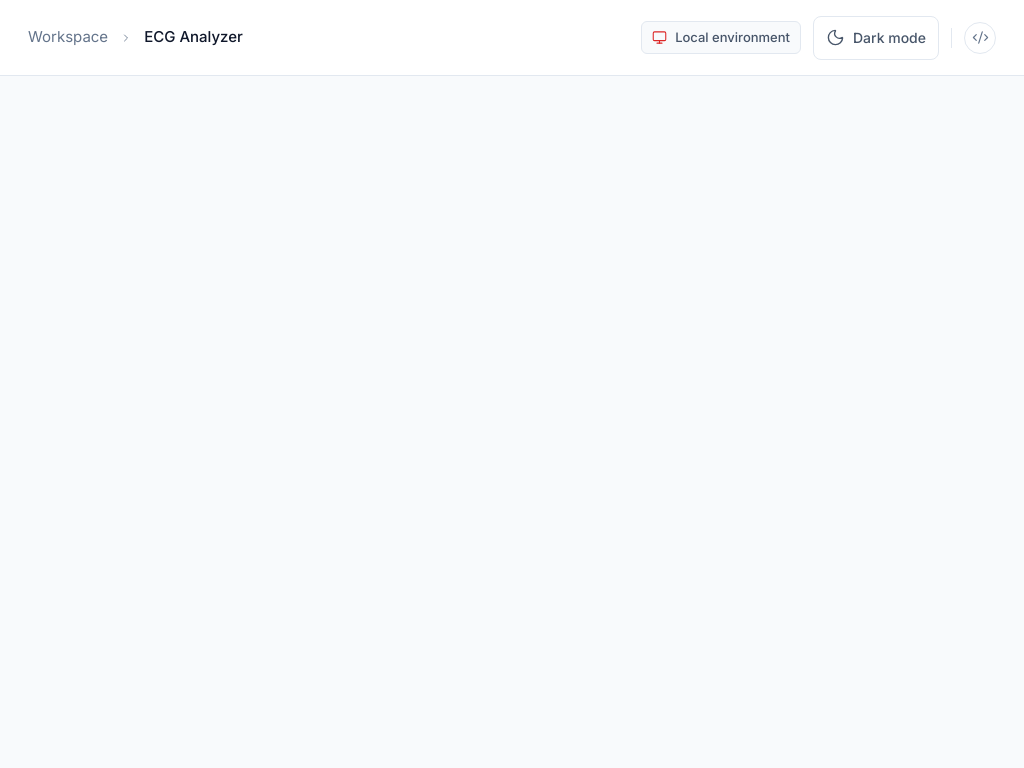
Test case: theme controls work even if browser storage is unavailable
Click the button with aria-label "Switch to dark mode": (876, 38) x1=813 y1=16 x2=939 y2=60
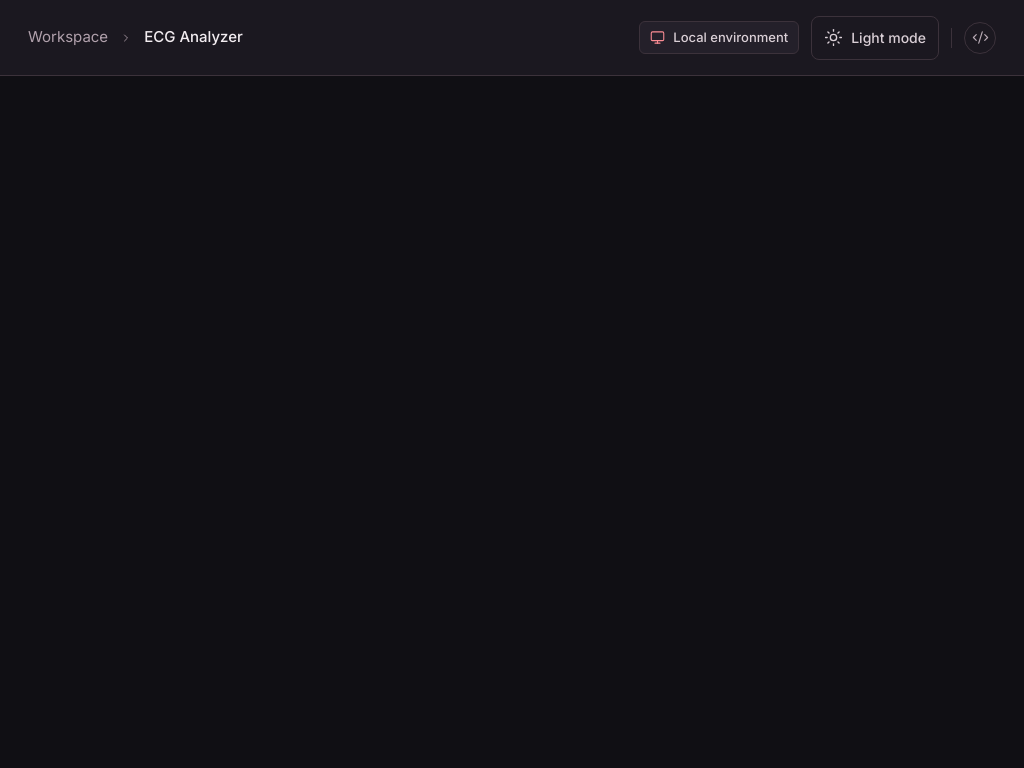
Check: the button with aria-label "Switch to light mode" is shown, box x1=811 y1=16 x2=939 y2=60
